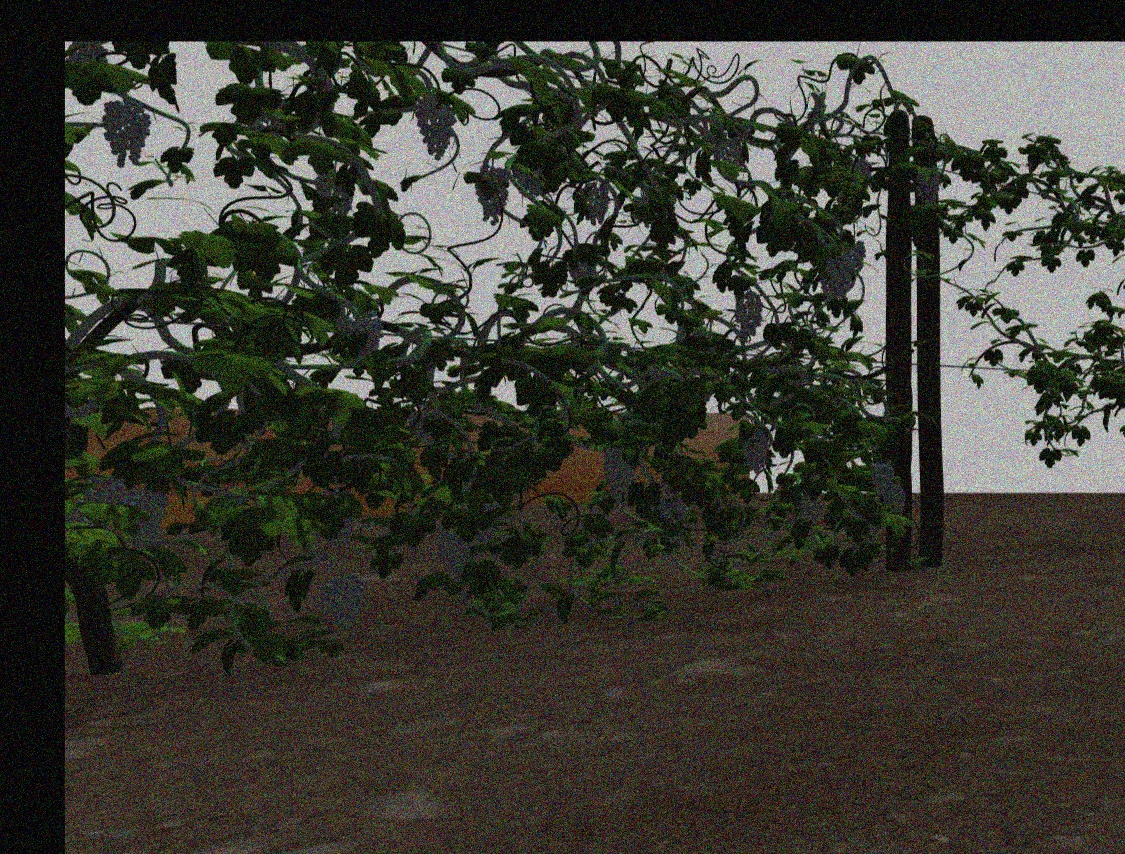grape: (98, 99, 150, 168), (414, 93, 454, 161), (319, 574, 365, 630), (433, 520, 472, 583), (127, 490, 170, 544), (332, 316, 381, 357), (473, 166, 507, 225), (601, 446, 632, 508), (83, 476, 127, 508), (741, 427, 770, 473), (580, 182, 608, 226), (736, 291, 763, 336), (824, 257, 852, 298), (914, 168, 942, 208), (657, 498, 688, 527), (841, 239, 867, 273), (882, 482, 906, 515), (798, 495, 824, 524), (870, 460, 893, 492)
